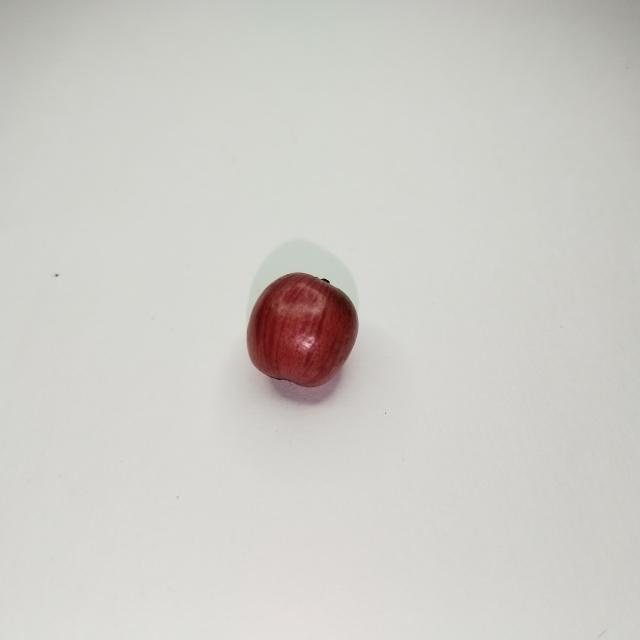Sano: (247, 272, 358, 387)
